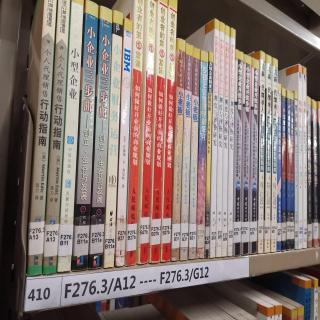book-spine: (25, 0, 59, 278), (41, 0, 72, 275), (56, 0, 85, 274), (72, 0, 100, 271), (86, 4, 114, 273), (125, 1, 146, 266), (103, 8, 124, 267), (138, 1, 158, 264), (150, 0, 169, 263), (115, 16, 134, 269), (160, 1, 178, 263), (171, 39, 186, 260), (180, 42, 194, 261), (208, 18, 220, 259), (215, 21, 226, 258), (188, 45, 200, 259), (225, 28, 236, 256), (221, 25, 231, 258), (197, 50, 208, 261), (233, 50, 244, 257), (203, 51, 213, 260), (241, 52, 251, 255), (250, 56, 260, 254), (257, 51, 266, 253), (265, 54, 272, 255), (271, 56, 278, 252), (311, 98, 319, 248), (298, 65, 304, 250), (277, 81, 283, 252), (307, 94, 313, 248), (286, 89, 291, 251), (291, 91, 296, 250), (303, 67, 307, 249), (282, 87, 286, 251), (294, 91, 298, 250)
